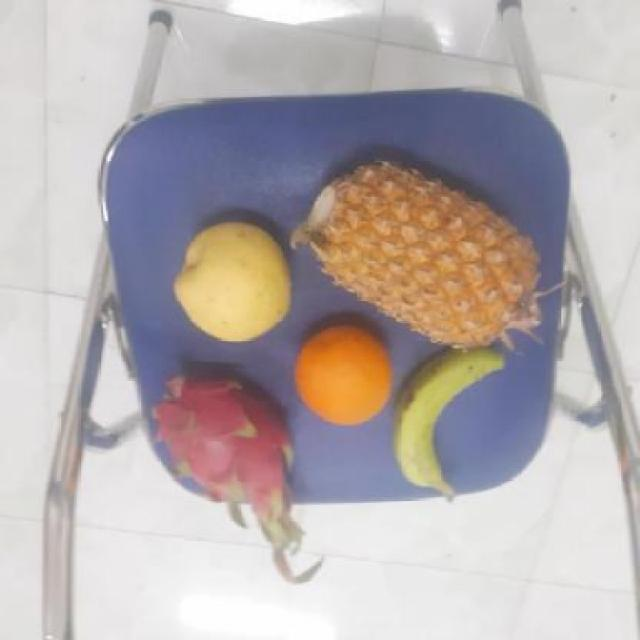dragon fruit: (151, 362, 309, 520), (388, 344, 504, 502)
oren: (290, 322, 402, 426)
pear: (171, 221, 298, 344)
pineapple: (309, 154, 553, 351)
